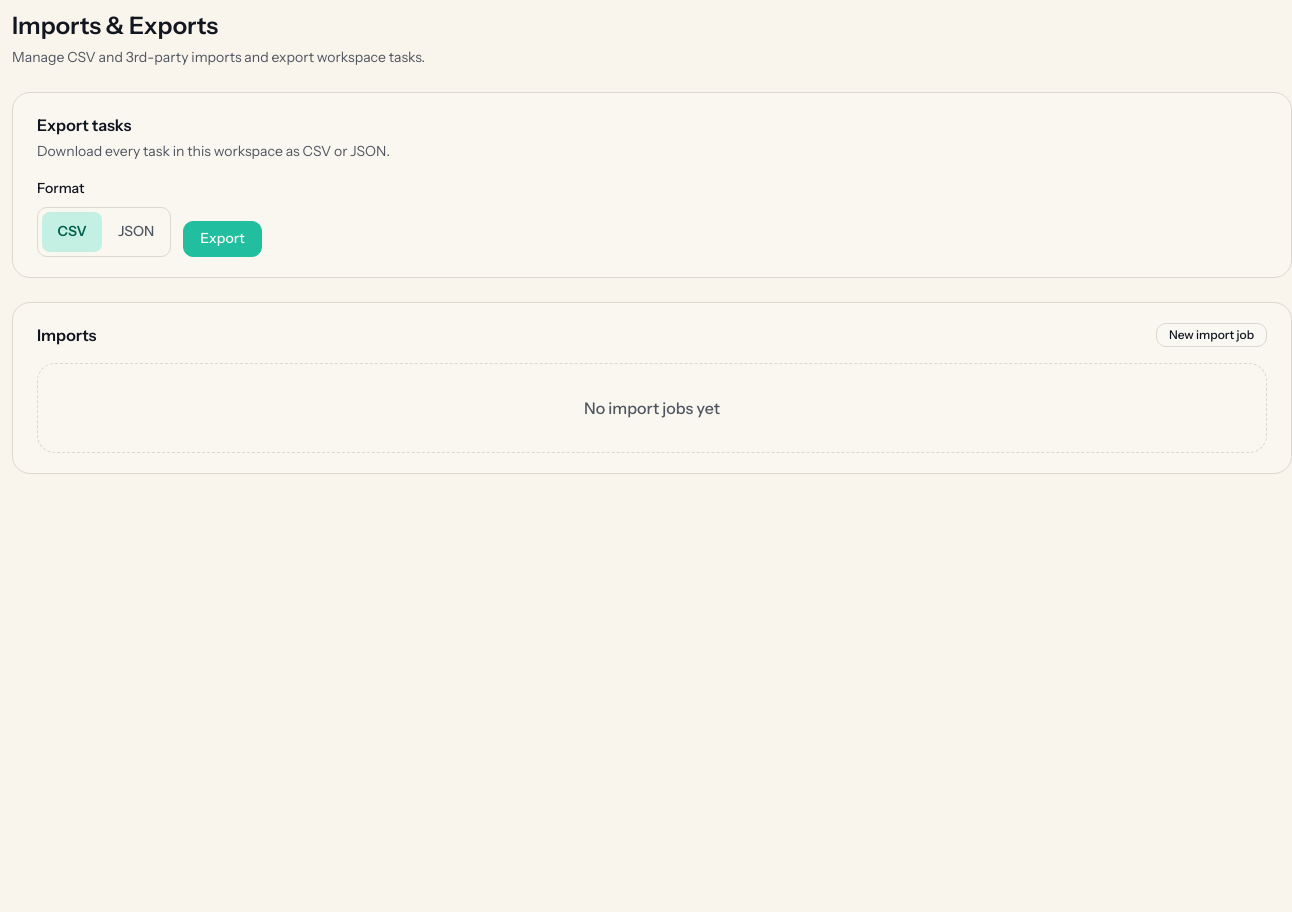
Test: import configuration field — credential guidance › attaches a rejected credential to the field, not to a toast
Step 1. Click the button "New import job" → click(1211, 335), box [1156,323,1267,347]
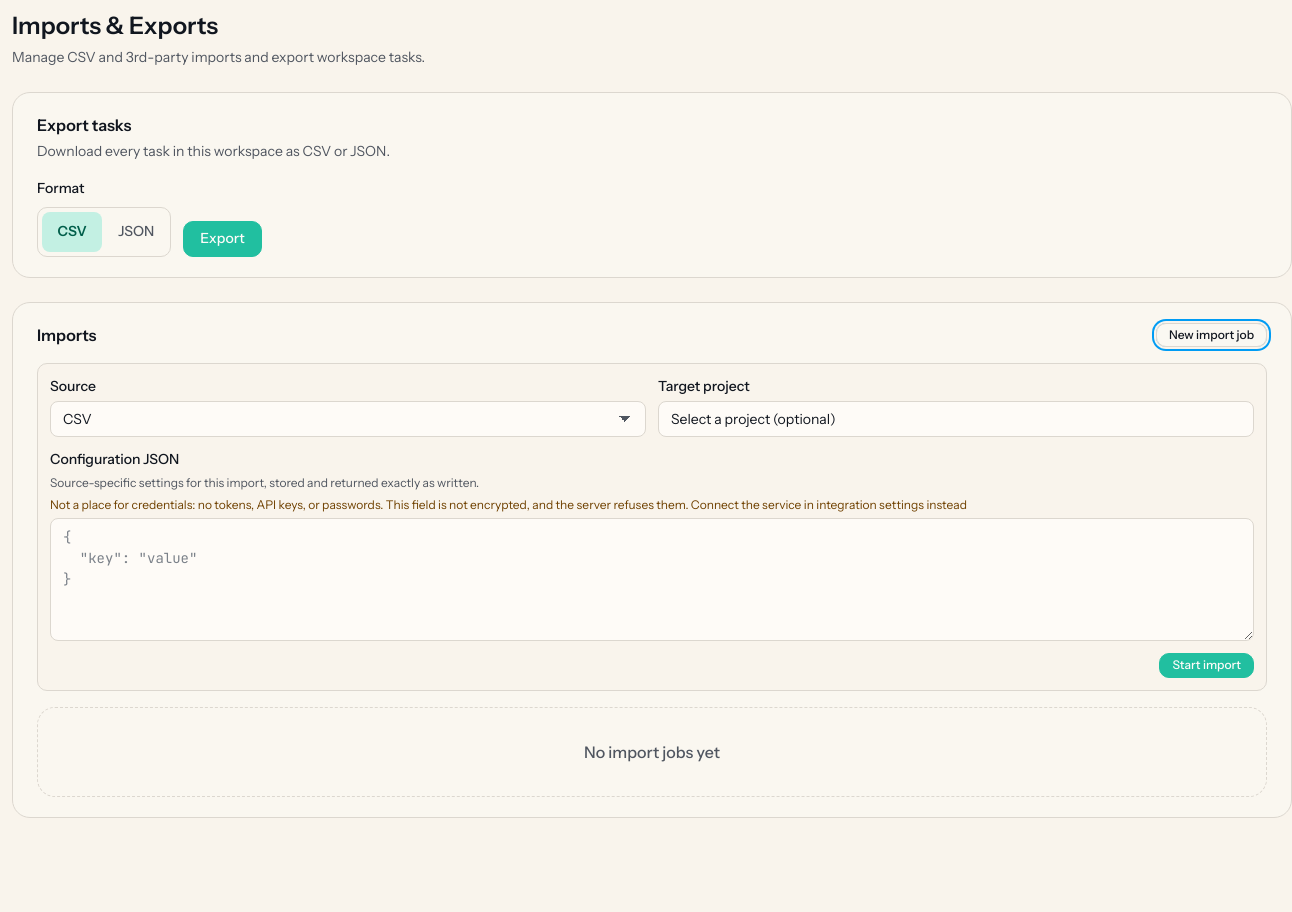
Step 2. Click the button "Start import" → click(1207, 665), box [1159,653,1254,678]
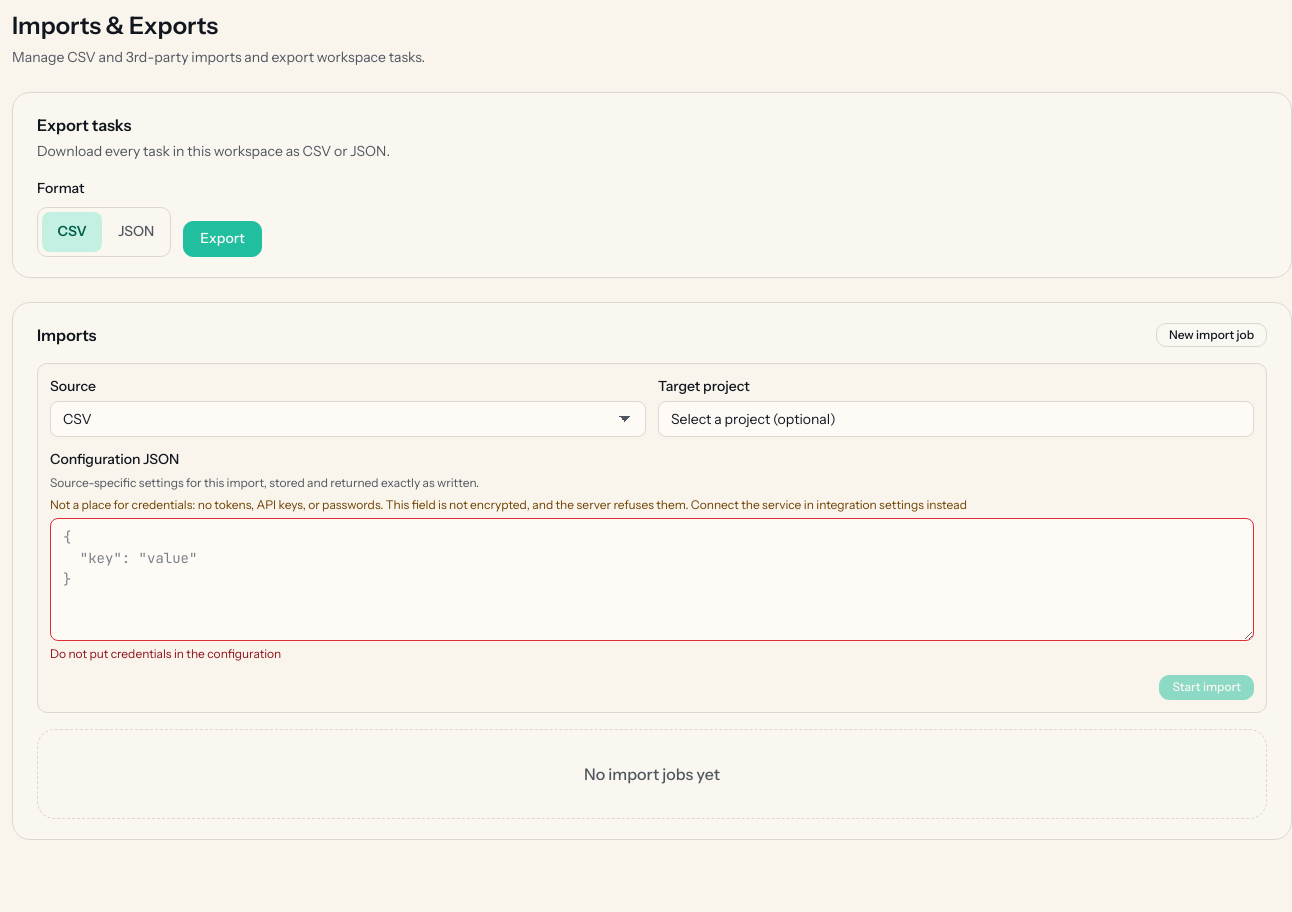
expect the text "Do not put credentials in the configuration" is shown: met, box [50,646,281,661]
